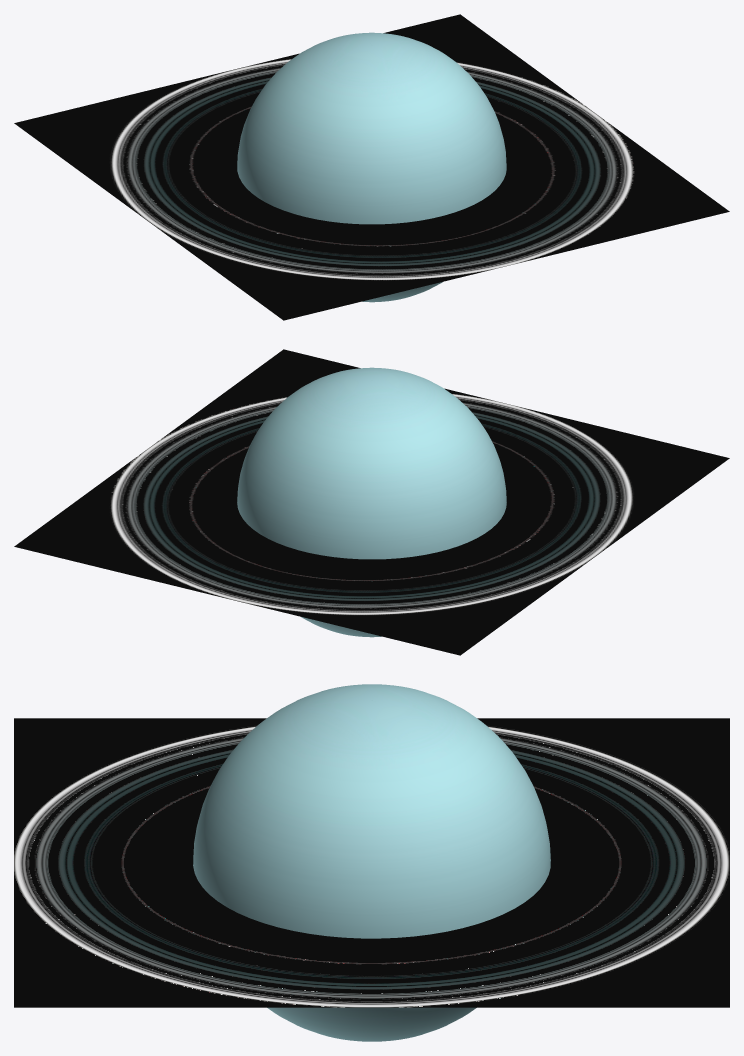
The model's file is uranus.glb.
3 views of the same model, one above another, from view 1: azimuth 30°, elevation 25°; view 2: azimuth 150°, elevation 25°; view 3: azimuth 270°, elevation 25° (orthographic). The views are drawn at different scales.
Parts seen in each view (by area): view 1: photodraw.ru-new, Earth; view 2: photodraw.ru-new, Earth; view 3: photodraw.ru-new, Earth.
Boxes of the visible parts, left/top/right/bottom form: photodraw.ru-new: left=14, top=14, right=729, bottom=320; Earth: left=237, top=32, right=506, bottom=302; photodraw.ru-new: left=14, top=349, right=729, bottom=655; Earth: left=237, top=367, right=506, bottom=637; photodraw.ru-new: left=14, top=718, right=729, bottom=1007; Earth: left=193, top=684, right=550, bottom=1041.
Bounding box in the file's own units: 3.82 × 2 × 4.
Materials: 2 (2 with a texture image).
